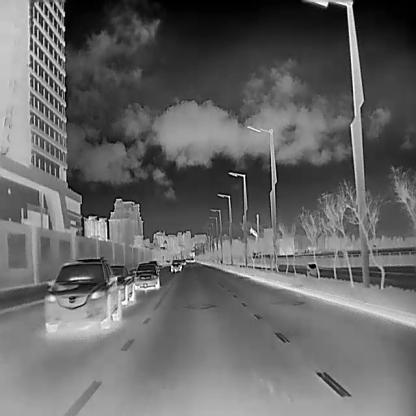car: (43, 256, 121, 333), (110, 263, 134, 305), (131, 262, 159, 289), (170, 258, 181, 270), (180, 257, 185, 265), (185, 257, 190, 262), (190, 257, 194, 262)
